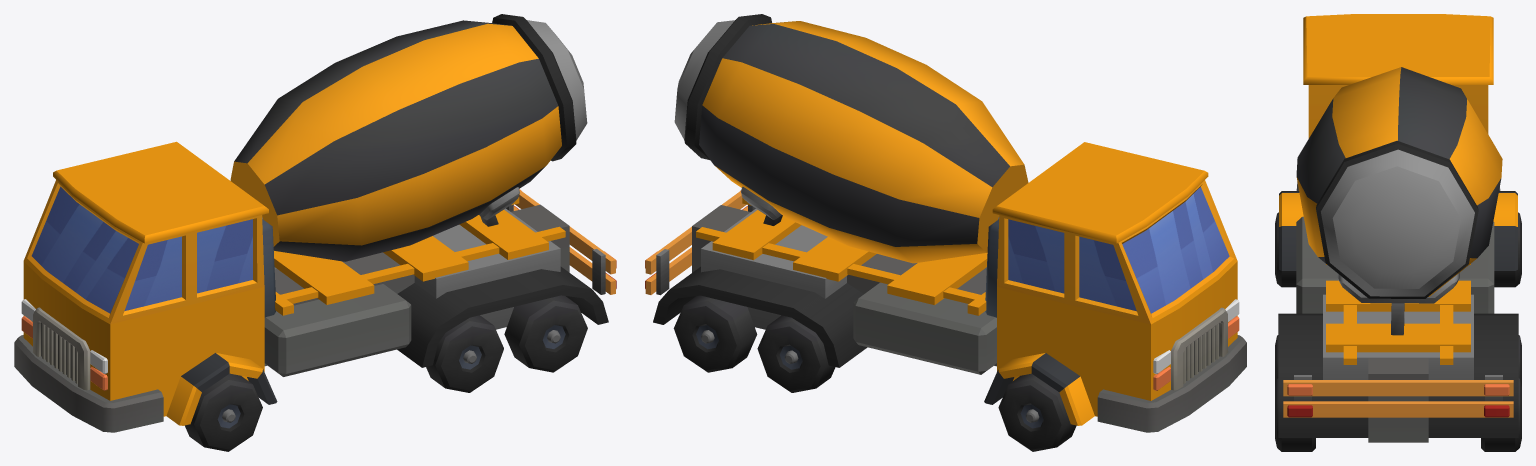
File: ConcrateTruck1.fbx
The picture shows the model from 3 angles, left to right: view 1: azimuth 30°, elevation 25°; view 2: azimuth 150°, elevation 25°; view 3: azimuth 270°, elevation 25°; orthographic projection. The views are drawn at different scales.
Parts seen in each view (by area): view 1: ConcrateTruck, W_BL_2, W_FL, W_BL_1; view 2: ConcrateTruck, W_BR_2, W_FR, W_BR_1; view 3: ConcrateTruck, W_BR_2, W_BL_2, W_FR, W_FL.
Part boxes in pixels (box(x1,y1,x2,y2)): ConcrateTruck: box(14, 14, 616, 432); W_BL_2: box(504, 295, 587, 372); W_FL: box(185, 373, 262, 451); W_BL_1: box(426, 315, 503, 392); ConcrateTruck: box(645, 14, 1246, 432); W_BR_2: box(673, 295, 757, 372); W_FR: box(998, 373, 1076, 451); W_BR_1: box(757, 315, 835, 392); ConcrateTruck: box(1278, 14, 1518, 442); W_BR_2: box(1481, 377, 1521, 451); W_BL_2: box(1275, 377, 1315, 451); W_FR: box(1494, 212, 1521, 287); W_FL: box(1275, 212, 1296, 287).
Size of the model in its own units: 697 by 399 by 278.
